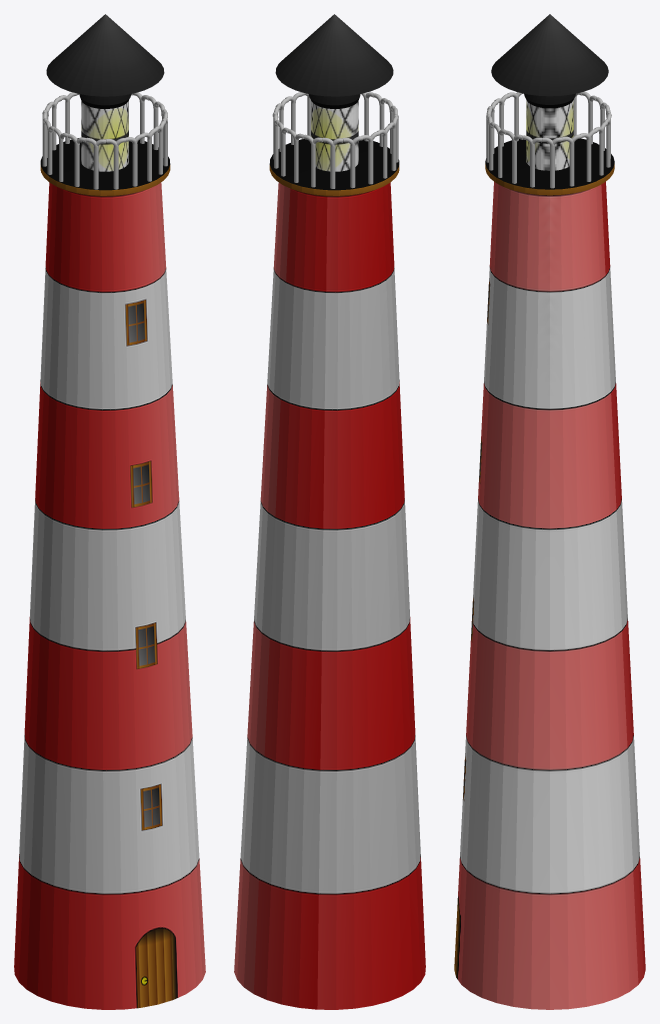
File: glbfile.glb
The picture shows the model from 3 angles, left to right: view 1: azimuth 30°, elevation 25°; view 2: azimuth 150°, elevation 25°; view 3: azimuth 270°, elevation 25°; orthographic projection.
Parts seen in each view (by area): view 1: Plane, Cylinder; view 2: Plane, Cylinder; view 3: Plane, Cylinder.
Part boxes in pixels (bbox=[...]): Plane: bbox=[14, 14, 205, 1009]; Cylinder: bbox=[42, 92, 167, 189]; Plane: bbox=[234, 14, 425, 1009]; Cylinder: bbox=[272, 92, 398, 188]; Plane: bbox=[454, 14, 645, 1009]; Cylinder: bbox=[486, 91, 611, 188].
Bounding box in the file's own units: 1.16 × 6.35 × 1.16.
2 materials, 1 textured.
